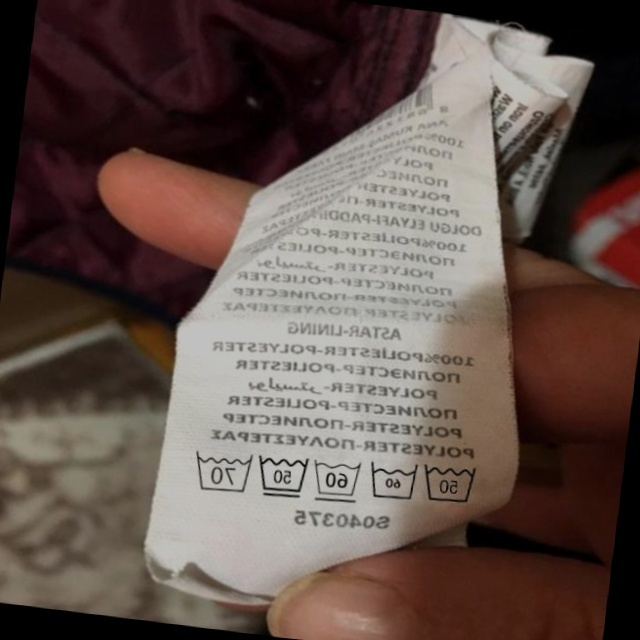50C: (416, 453, 484, 511), (251, 448, 312, 504)
60C: (306, 452, 364, 506), (362, 455, 421, 507)
70C: (185, 445, 254, 498)
